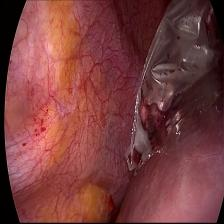Specimen Bag: (119, 1, 223, 180)
